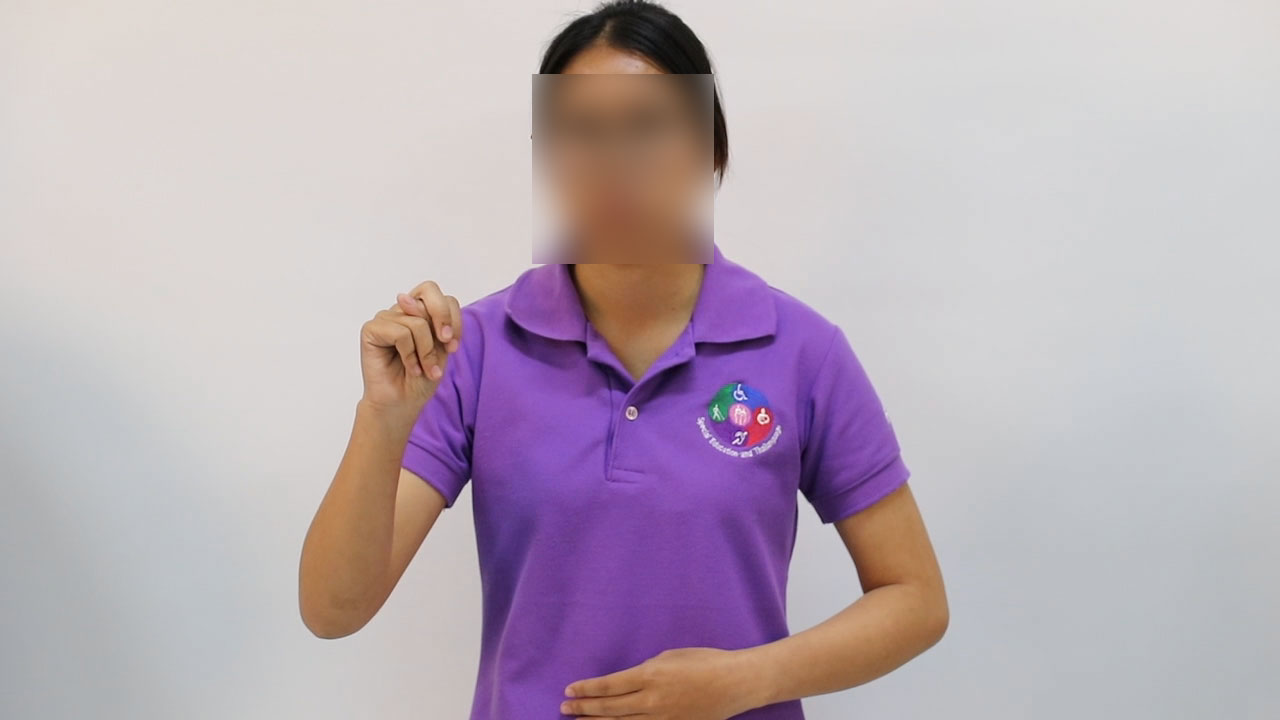nor: (342, 274, 472, 417)
